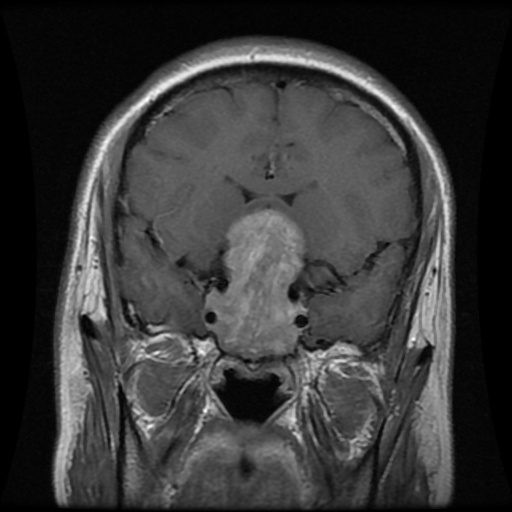pituitary: (209, 212, 306, 355)
